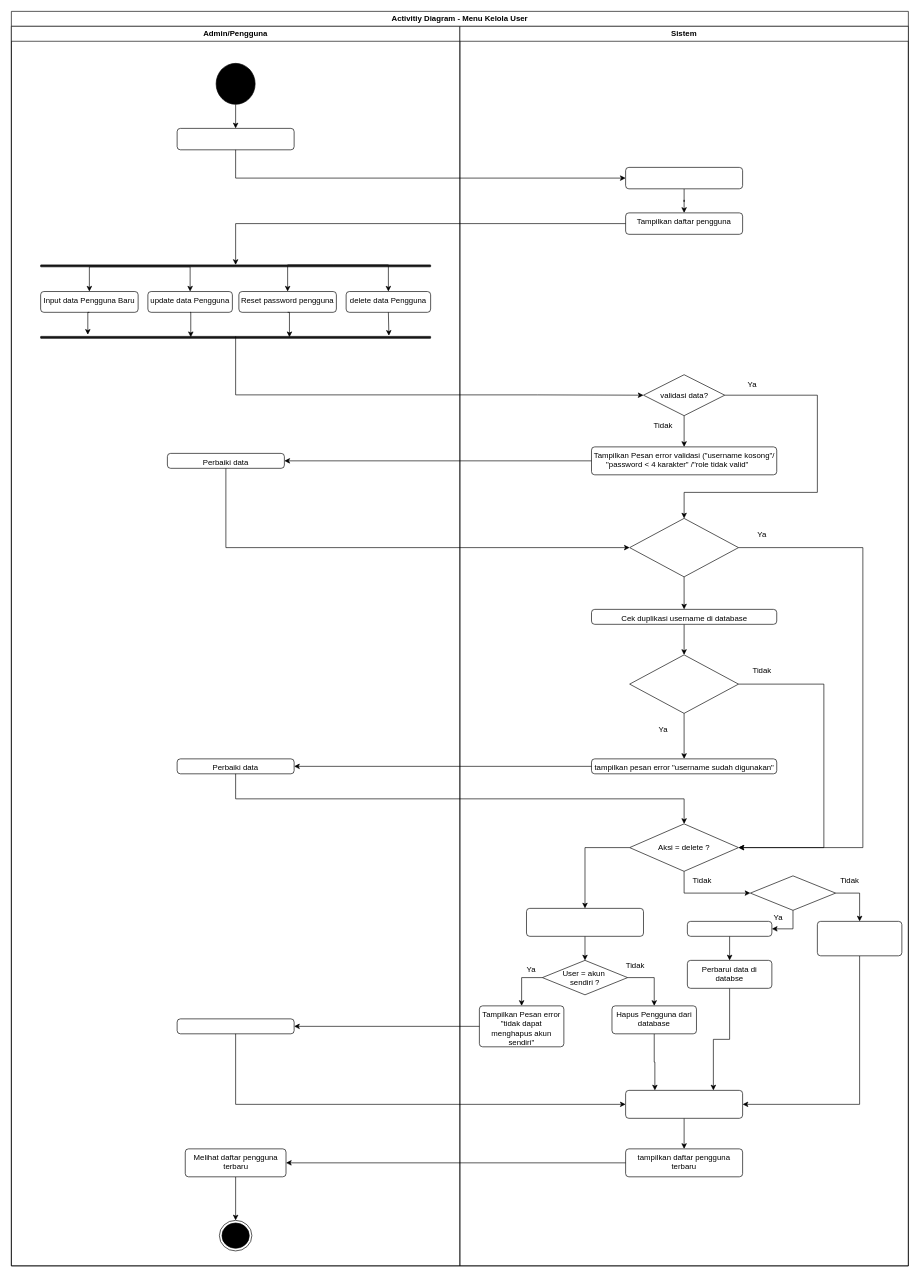
This 920x1277 diagram has some shape labels left out. The centre of each missing label's shape, as x and y in pixels:
aksi = reset password?: [793,892]
Aksi = Tambah atau Update?: [684,547]
Ambil daftar Pengguna dari database: [684,178]
Ambil Ulang daftar data pengguna dari database: [684,1104]
Batalkan: [235,1026]
Cek apakah user = akun yang sedang login: [585,922]
hash password baru: [729,928]
Pilih menu "kelola User": [235,139]
Proses insert/update data pengguna ke database: [859,938]
Username sudah digunakan?: [684,683]
